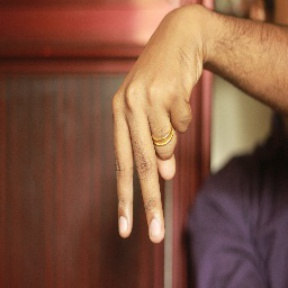Y: (106, 47, 199, 246)
